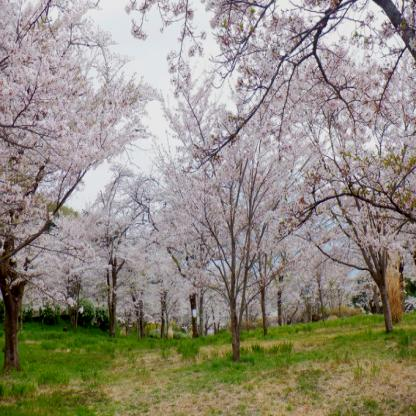Someiyoshino: (1, 1, 415, 303)
